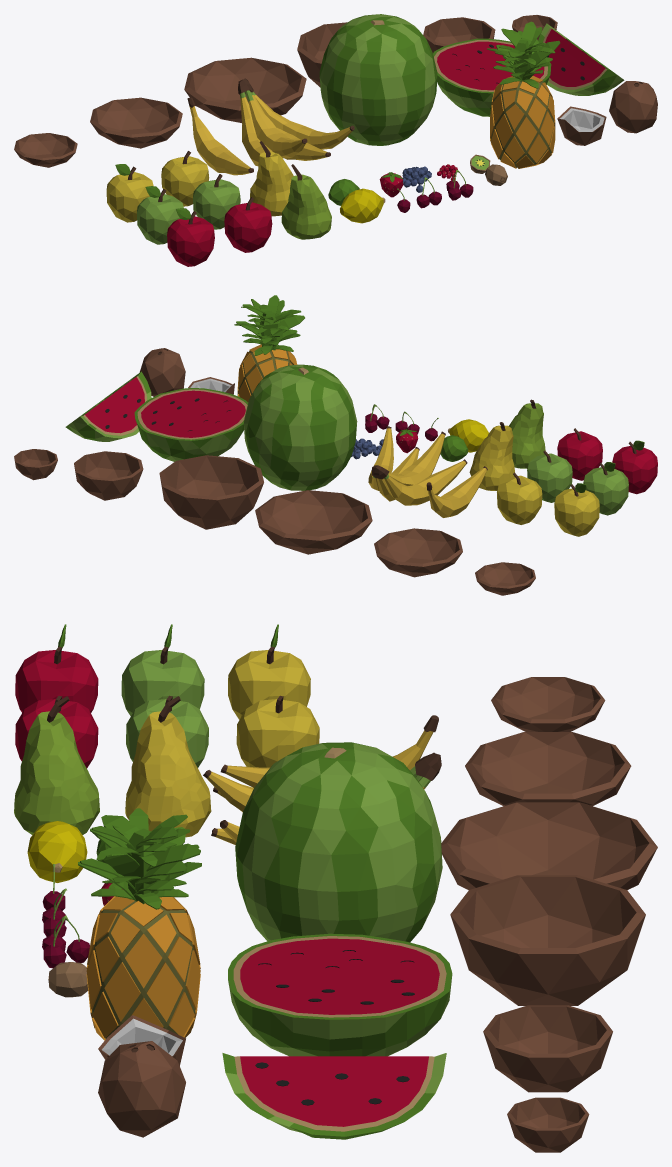
3 views of the same model, one above another, from view 1: azimuth 30°, elevation 25°; view 2: azimuth 150°, elevation 25°; view 3: azimuth 270°, elevation 25° (orthographic). The views are drawn at different scales.
Parts seen in each view (by area): view 1: watermelon, Cube.004, Icosphere.003, watermelon_half, Cube, Icosphere.004, watermelon_slice, pear, apple.003, Sphere.002, Cube.001, apple (+16 smaller); view 2: watermelon, watermelon_half, Icosphere, Icosphere.003, Cube.004, Cube, Icosphere.004, watermelon_slice, Icosphere.001, Cube.001, apple.005, apple.002 (+12 smaller); view 3: watermelon, watermelon_half, Cube.004, Icosphere, watermelon_slice, Icosphere.003, Icosphere.004, Icosphere.001, pear, Cube.001, Sphere.002, Icosphere.005 (+13 smaller).
Boxes of the visible parts, left/top/right/bottom form: watermelon: left=319, top=14, right=437, bottom=145; Cube.004: left=487, top=21, right=560, bottom=168; Icosphere.003: left=184, top=57, right=306, bottom=122; watermelon_half: left=433, top=38, right=551, bottom=116; Cube: left=238, top=78, right=354, bottom=166; Icosphere.004: left=90, top=97, right=182, bottom=148; watermelon_slice: left=538, top=23, right=624, bottom=95; pear: left=281, top=164, right=331, bottom=239; apple.003: left=167, top=208, right=214, bottom=266; Sphere.002: left=609, top=81, right=657, bottom=133; Cube.001: left=250, top=141, right=293, bottom=216; apple: left=224, top=197, right=272, bottom=252; watermelon: left=243, top=364, right=357, bottom=490; watermelon_half: left=134, top=388, right=248, bottom=461; Icosphere: left=159, top=455, right=263, bottom=529; Icosphere.003: left=255, top=490, right=372, bottom=554; Cube.004: left=234, top=295, right=304, bottom=401; Cube: left=368, top=426, right=467, bottom=505; Icosphere.004: left=374, top=528, right=462, bottom=577; watermelon_slice: left=65, top=371, right=151, bottom=441; Icosphere.001: left=74, top=451, right=143, bottom=500; Cube.001: left=469, top=422, right=514, bottom=490; apple.005: left=554, top=483, right=599, bottom=536; apple.002: left=497, top=472, right=542, bottom=524; watermelon: left=235, top=742, right=442, bottom=942; watermelon_half: left=228, top=933, right=452, bottom=1056; Cube.004: left=78, top=808, right=201, bottom=1040; Icosphere: left=450, top=875, right=645, bottom=1005; watermelon_slice: left=222, top=1053, right=446, bottom=1139; Icosphere.003: left=441, top=802, right=657, bottom=889; Icosphere.004: left=465, top=732, right=631, bottom=806; Icosphere.001: left=483, top=1005, right=612, bottom=1092; pear: left=14, top=696, right=99, bottom=834; Cube.001: left=125, top=696, right=211, bottom=837; Sphere.002: left=98, top=1041, right=185, bottom=1137; Icosphere.005: left=491, top=677, right=605, bottom=731.
Bounding box in the file's own units: 19.92 × 4.63 × 11.83.
